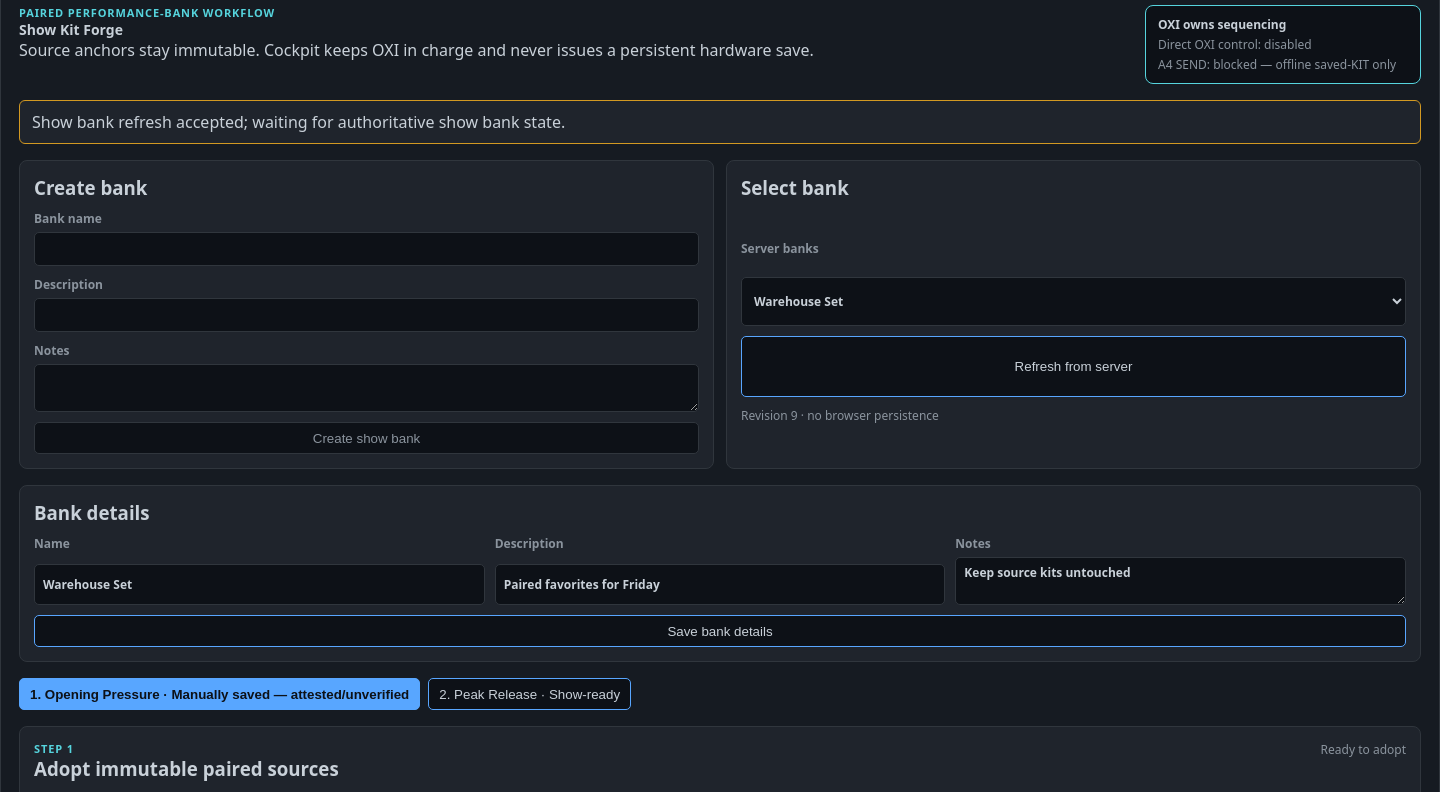
Test: ShowKitForgePanel › separates whole-bank readiness from the selected cue readiness
Click the button "2. Peak Release · Show-ready" at (530, 694), box [428,678,631,710]
(page scrolled)
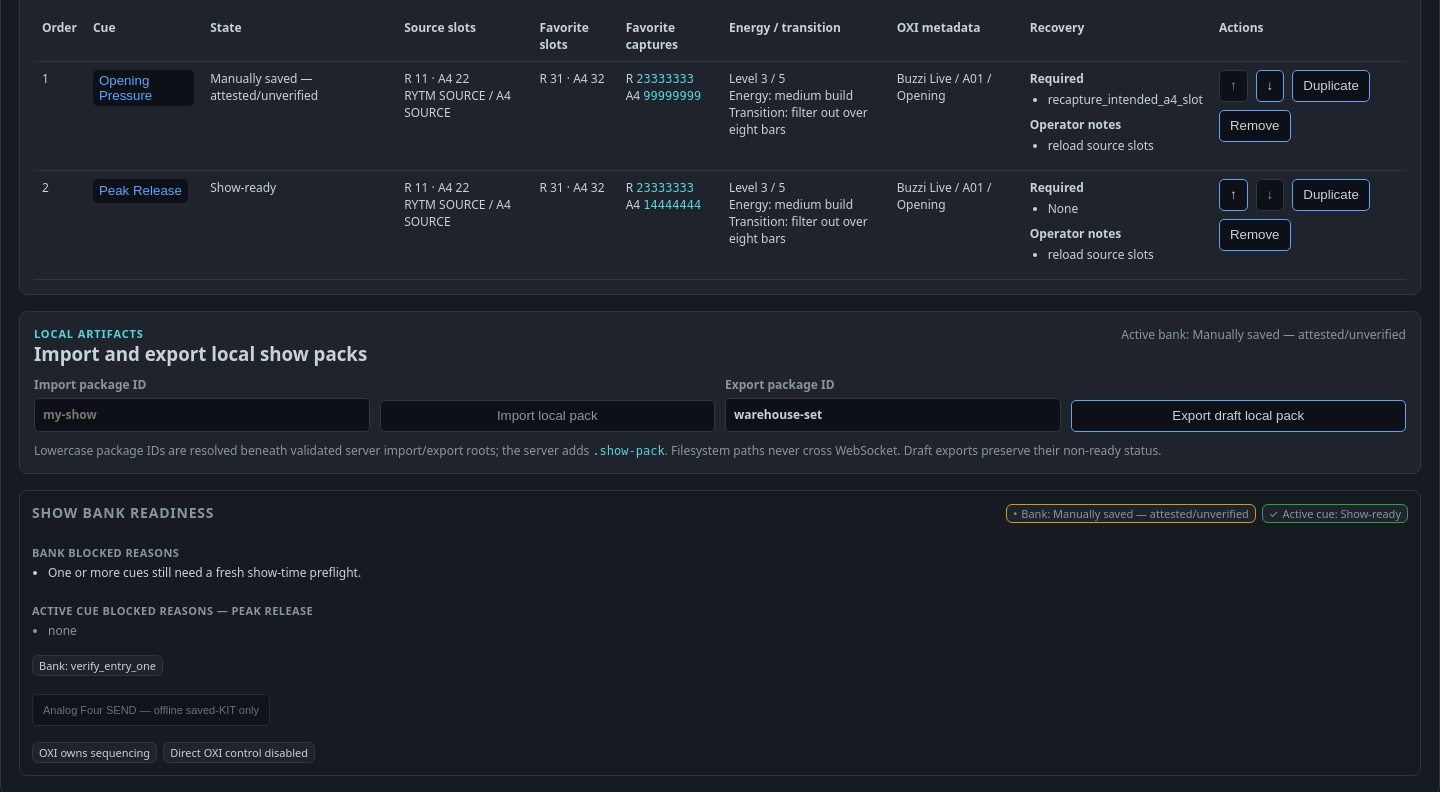
Expected: the text "Bank: Manually saved — attested/unverified" is shown, [1021,506,1249,520]
Expected: the text "Active cue: Show-ready" is shown, [1283,506,1401,520]
Expected: the heading "Active cue blocked reasons — Peak Release" is shown, [32,603,313,618]
